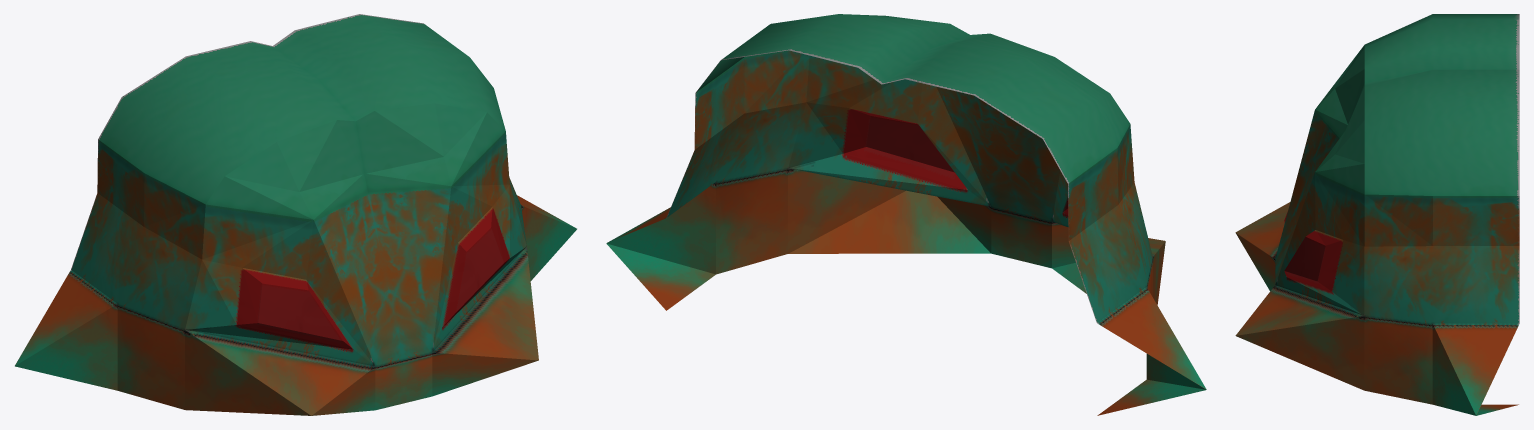
The model's file is Hemisphere.FBX.
3 views of the same model, side by side, from view 1: azimuth 30°, elevation 25°; view 2: azimuth 150°, elevation 25°; view 3: azimuth 270°, elevation 25° (orthographic). The views are drawn at different scales.
Parts seen in each view (by area): view 1: Box002; view 2: Box002; view 3: Box002.
Boxes of the visible parts, left/top/right/bottom form: Box002: left=15, top=14, right=576, bottom=415; Box002: left=606, top=14, right=1206, bottom=415; Box002: left=1235, top=14, right=1519, bottom=415.
Size of the model in its own units: 48.67 by 22.49 by 22.84.
